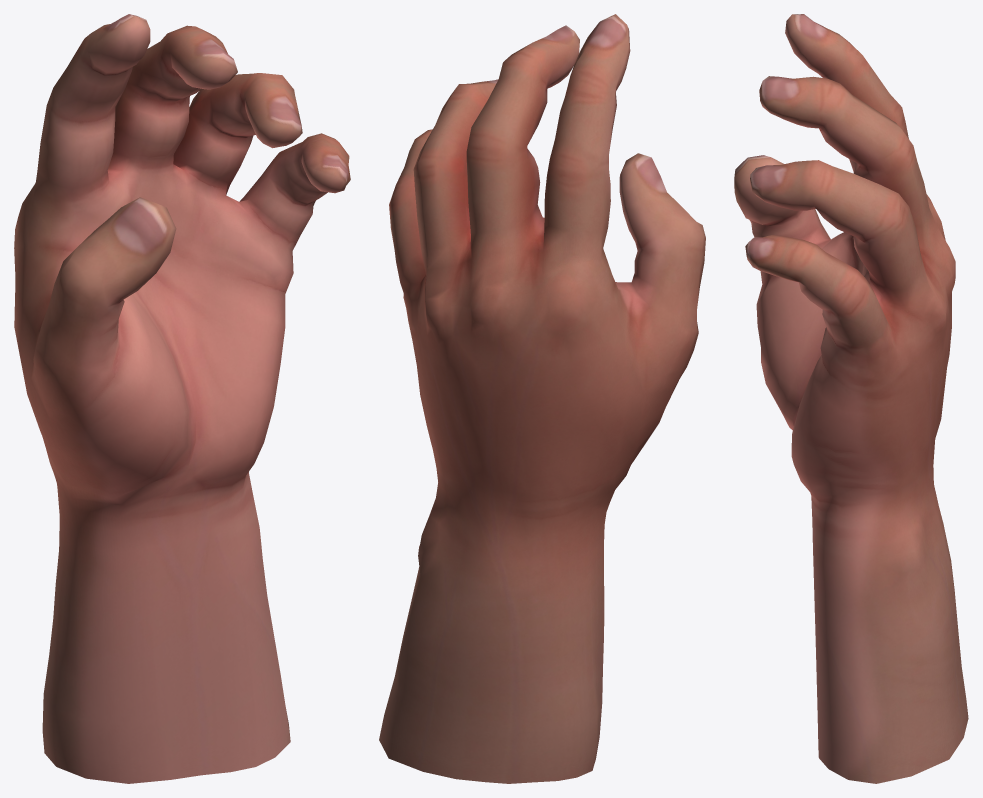
Rendered from han.gltf.
The picture shows the model from 3 angles, left to right: view 1: azimuth 30°, elevation 25°; view 2: azimuth 150°, elevation 25°; view 3: azimuth 270°, elevation 25°; orthographic projection. The views are drawn at different scales.
Visible parts, largest first — view 1: Object_2; view 2: Object_2; view 3: Object_2.
Part boxes in pixels (left/top/right/bottom): Object_2: left=14, top=14, right=350, bottom=783; Object_2: left=379, top=14, right=705, bottom=783; Object_2: left=734, top=14, right=968, bottom=783.
Bounding box in the file's own units: 0.1821 × 0.4527 × 0.1398.
